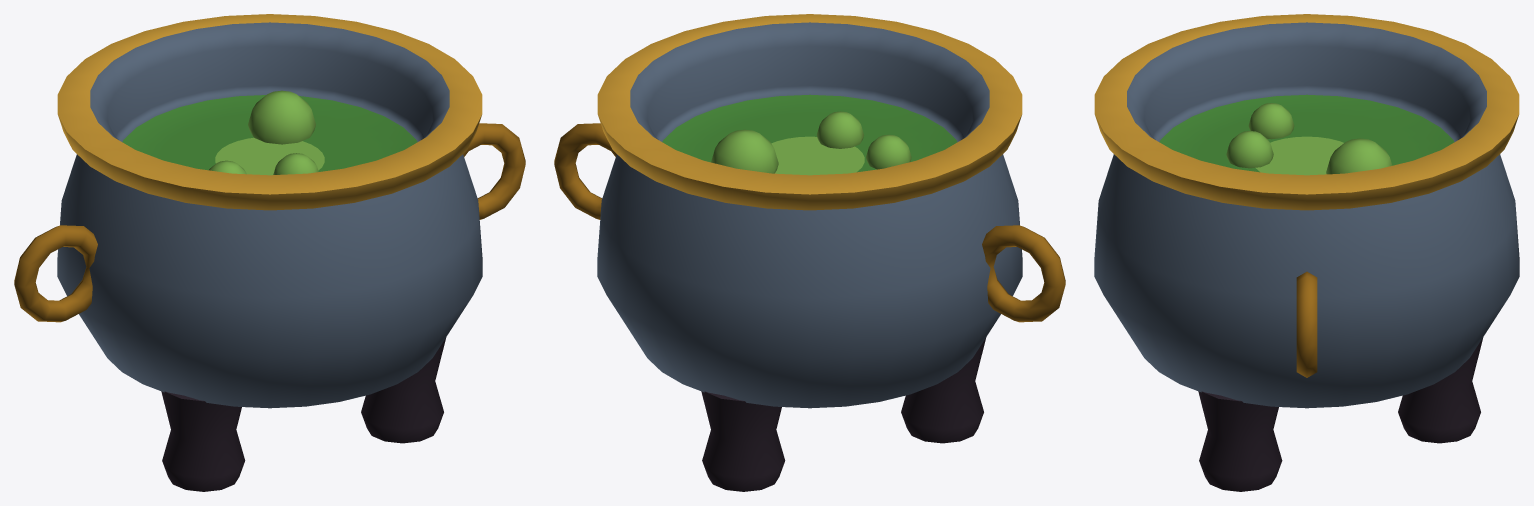
File: Cauldron_13.glb
The picture shows the model from 3 angles, left to right: view 1: azimuth 30°, elevation 25°; view 2: azimuth 150°, elevation 25°; view 3: azimuth 270°, elevation 25°; orthographic projection.
Parts seen in each view (by area): view 1: Cauldron_13; view 2: Cauldron_13; view 3: Cauldron_13.
Boxes of the visible parts, box(x1,y1,x2,y2) form: Cauldron_13: box(14, 14, 525, 491); Cauldron_13: box(554, 14, 1065, 491); Cauldron_13: box(1094, 14, 1519, 491).
Size of the model in its own units: 3.96 by 2.44 by 2.85.
